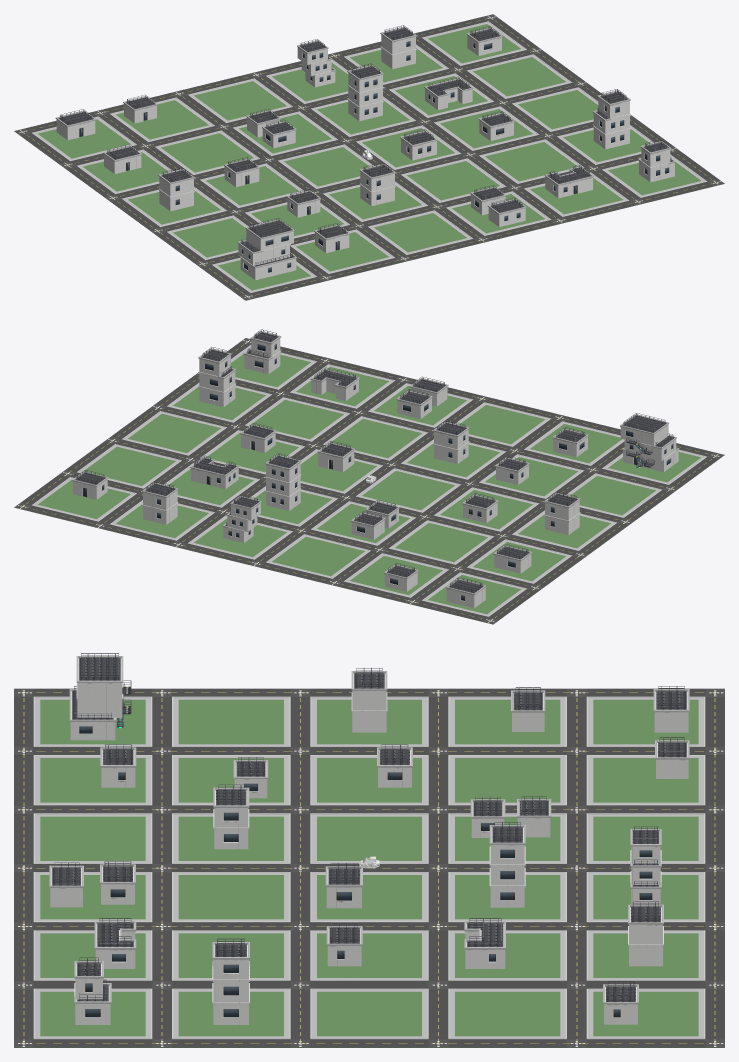
3 renders of one model, top to bottom at view 1: azimuth 30°, elevation 25°; view 2: azimuth 150°, elevation 25°; view 3: azimuth 270°, elevation 25°, orthographic. The views are drawn at different scales.
Visible parts, largest first — view 1: Ground_000, Road_007, Road_010, Road_000, Road_009, Road_005, Road_002, Road_011, Road_003, Road_012, Road_004, Road_006 (+3 smaller); view 2: Ground_000, Road_012, Road_008, Road_000, Road_002, Road_011, Road_009, Road_010, Road_005, Road_003, Road_007, Road_001 (+2 smaller); view 3: Ground_000, Road_009, Road_010, Road_007, Road_008, Road_011, Road_012, Road_006, Road_002, Road_004, Road_005, Road_000 (+13 smaller).
Part boxes in pixels (<box>): Ground_000: <box>14,24,723,300</box>; Road_007: <box>250,181,713,297</box>; Road_010: <box>115,83,577,198</box>; Road_000: <box>20,133,249,295</box>; Road_009: <box>161,121,593,231</box>; Road_005: <box>416,38,639,200</box>; Road_002: <box>177,95,405,257</box>; Road_011: <box>70,50,532,165</box>; Road_003: <box>255,76,483,238</box>; Road_012: <box>25,17,487,132</box>; Road_004: <box>333,57,561,219</box>; Road_006: <box>489,19,717,181</box>; Ground_000: <box>16,354,722,624</box>; Road_012: <box>25,505,487,621</box>; Road_008: <box>235,379,668,489</box>; Road_000: <box>489,457,717,619</box>; Road_002: <box>333,419,561,581</box>; Road_011: <box>71,472,533,588</box>; Road_009: <box>161,406,623,522</box>; Road_010: <box>116,439,578,555</box>; Road_005: <box>99,361,327,524</box>; Road_003: <box>255,400,483,562</box>; Road_007: <box>280,346,713,456</box>; Road_001: <box>411,441,624,600</box>; Ground_000: <box>14,700,724,1047</box>; Road_009: <box>290,697,310,1039</box>; Road_010: <box>428,697,448,1039</box>; Road_007: <box>14,697,33,1039</box>; Road_008: <box>152,697,171,1039</box>; Road_011: <box>567,697,586,1039</box>; Road_012: <box>705,697,724,1039</box>; Road_006: <box>33,1039,705,1047</box>; Road_002: <box>33,805,705,813</box>; Road_004: <box>33,922,705,930</box>; Road_005: <box>33,981,705,988</box>; Road_000: <box>33,688,705,696</box>.
Size of the model in its own units: 129 by 12.54 by 108.
175 materials, 12 textured.
